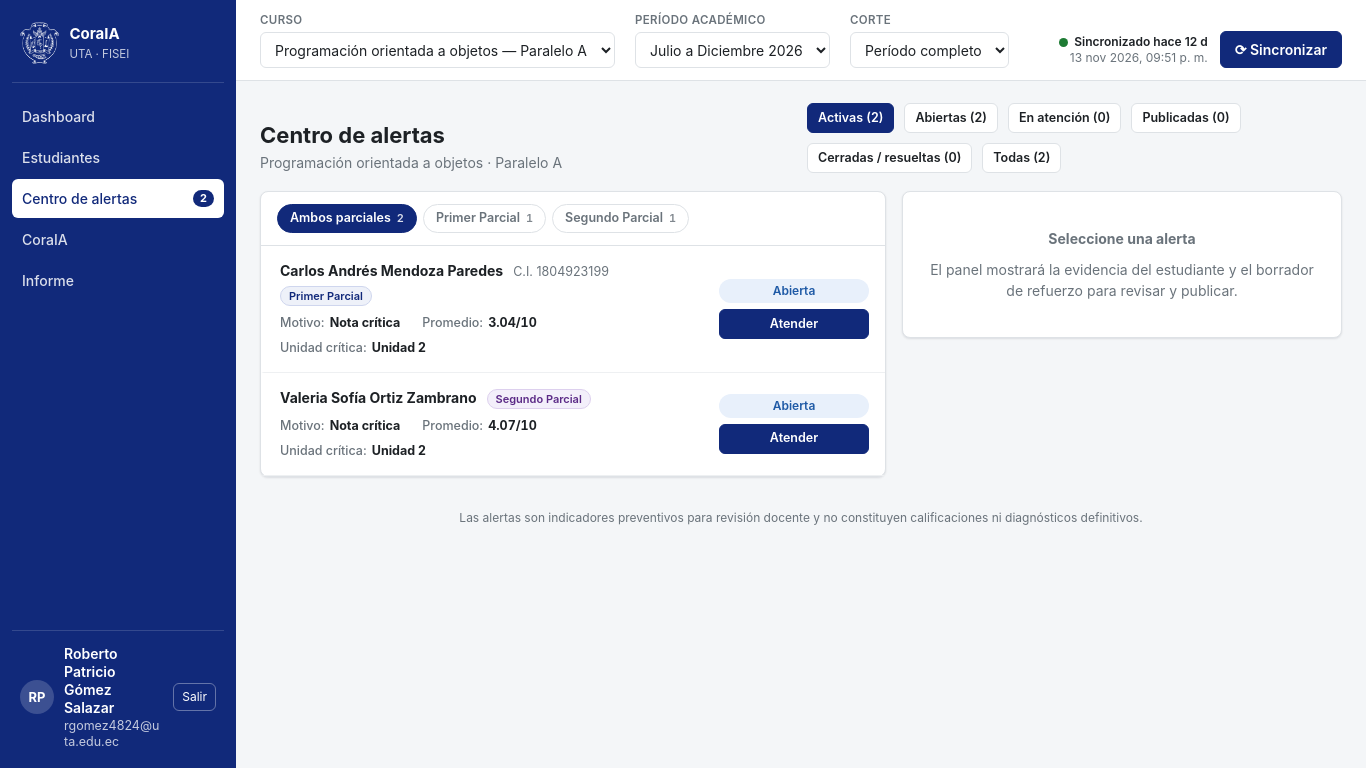
Test: RF-07 / RF-10 · Centro de alertas › filtra por Primer / Segundo Parcial y rotula cada tarjeta con su parcial
Expected: the button with test id "alerta-1" is shown, top-left (261, 246), bottom-right (885, 373)
Expected: the text with test id "parcial-alerta" reads "Segundo Parcial", top-left (496, 392), bottom-right (582, 406)
Click the button "Segundo Parcial 1" at [621, 219], box top-left (552, 204), bottom-right (689, 233)
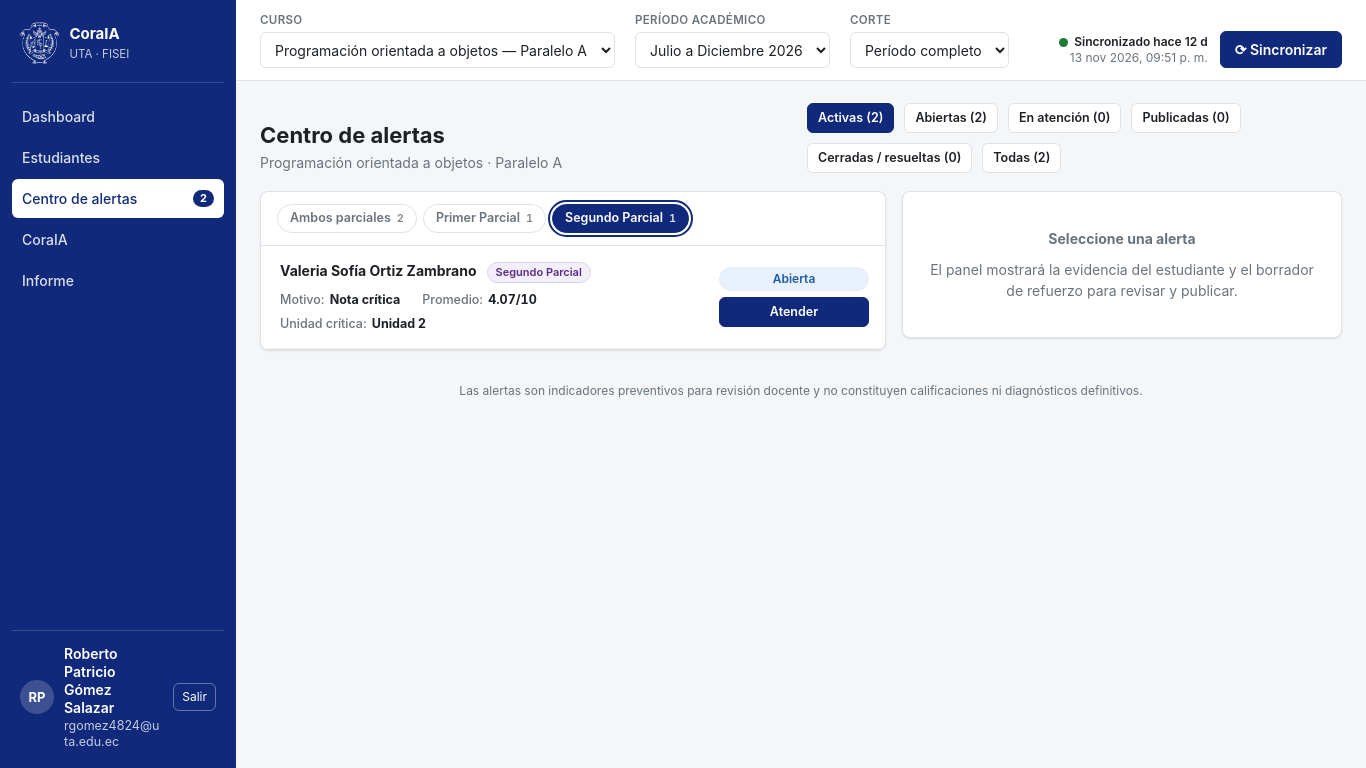
Expected: the button with test id "alerta-2" is shown, top-left (261, 246), bottom-right (885, 349)
Expected: the button with test id "alerta-1" is gone
Click the button "Ambos parciales 2" at [347, 219], box top-left (277, 204), bottom-right (417, 233)
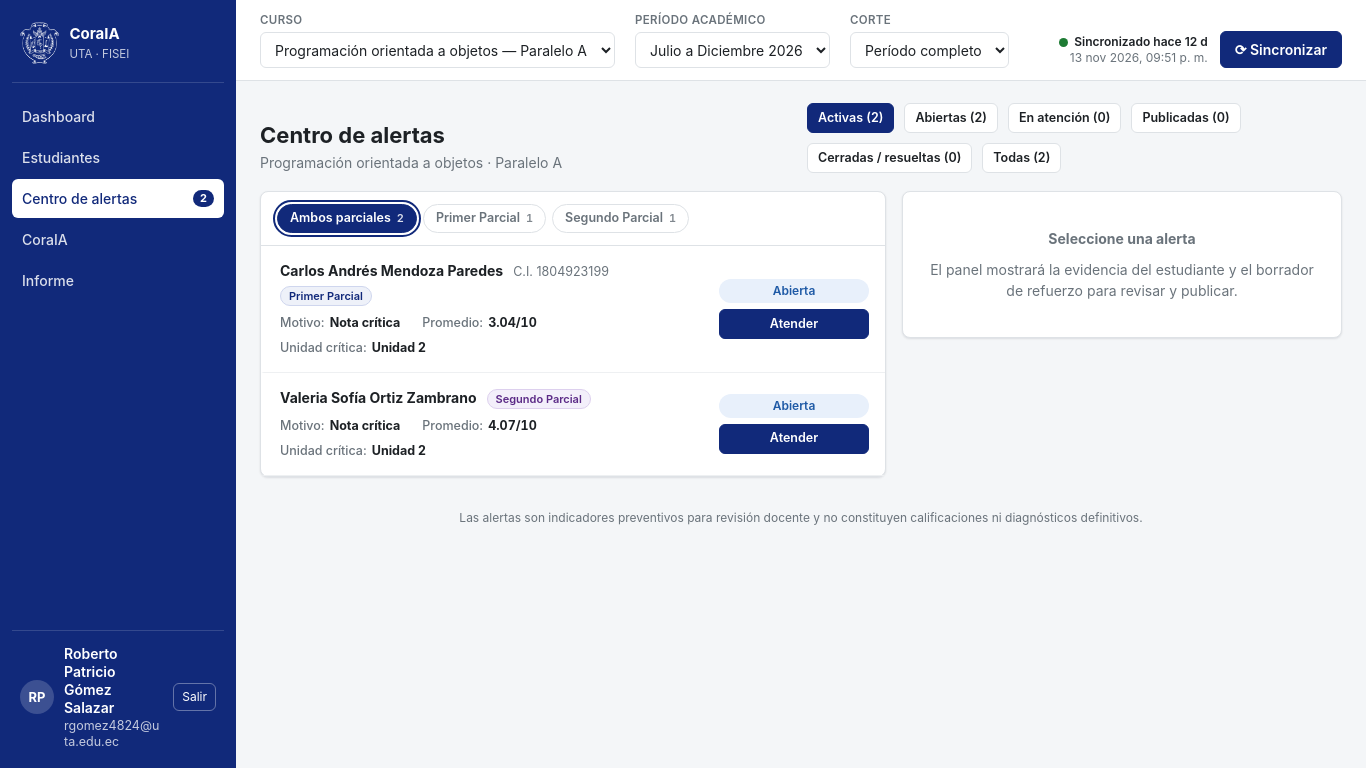
Expected: the button with test id "alerta-1" is shown, top-left (261, 246), bottom-right (885, 373)
